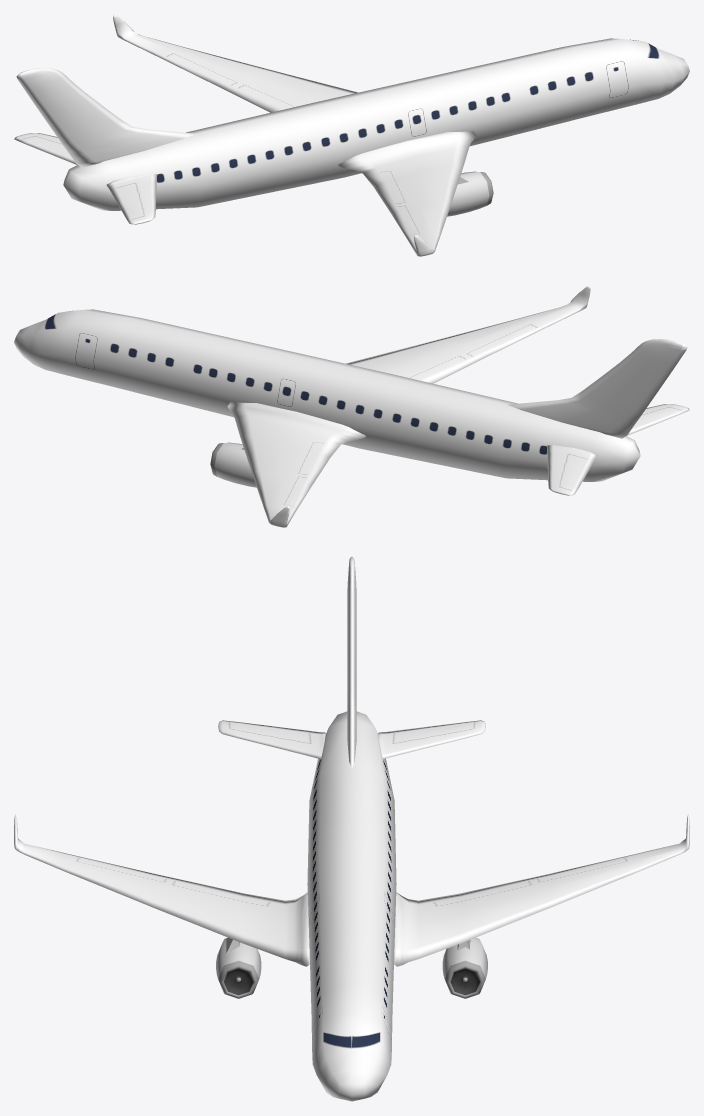
File: airliner.glb
The picture shows the model from 3 angles, top to bottom: view 1: azimuth 30°, elevation 25°; view 2: azimuth 150°, elevation 25°; view 3: azimuth 270°, elevation 25°; orthographic projection. The views are drawn at different scales.
Visible parts, largest first — view 1: Body, Engines; view 2: Body, Engines; view 3: Body, Engines.
Part boxes in pixels (bbox=[...]): Body: bbox=[14, 14, 689, 256]; Engines: bbox=[447, 171, 493, 216]; Body: bbox=[14, 285, 689, 527]; Engines: bbox=[210, 442, 256, 487]; Body: bbox=[14, 556, 689, 1101]; Engines: bbox=[216, 937, 487, 998].
Size of the model in its own units: 19.91 by 5.6 by 15.53.
5 materials, 1 textured.
